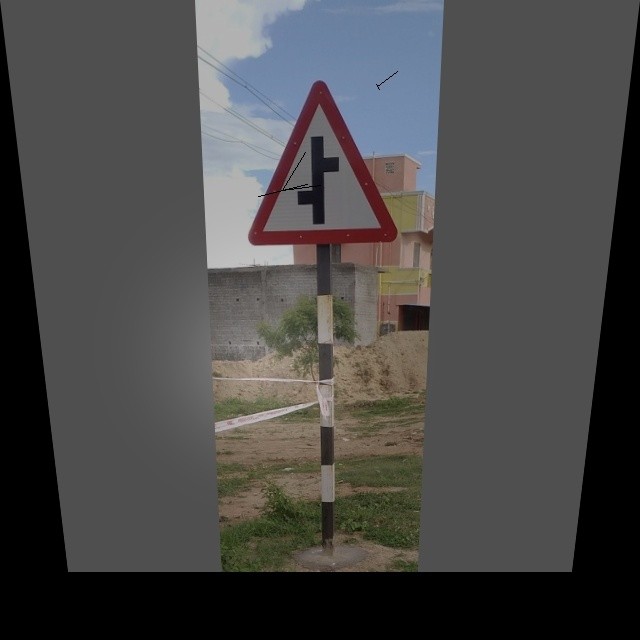Staggered_Intersection: (244, 70, 407, 252)
